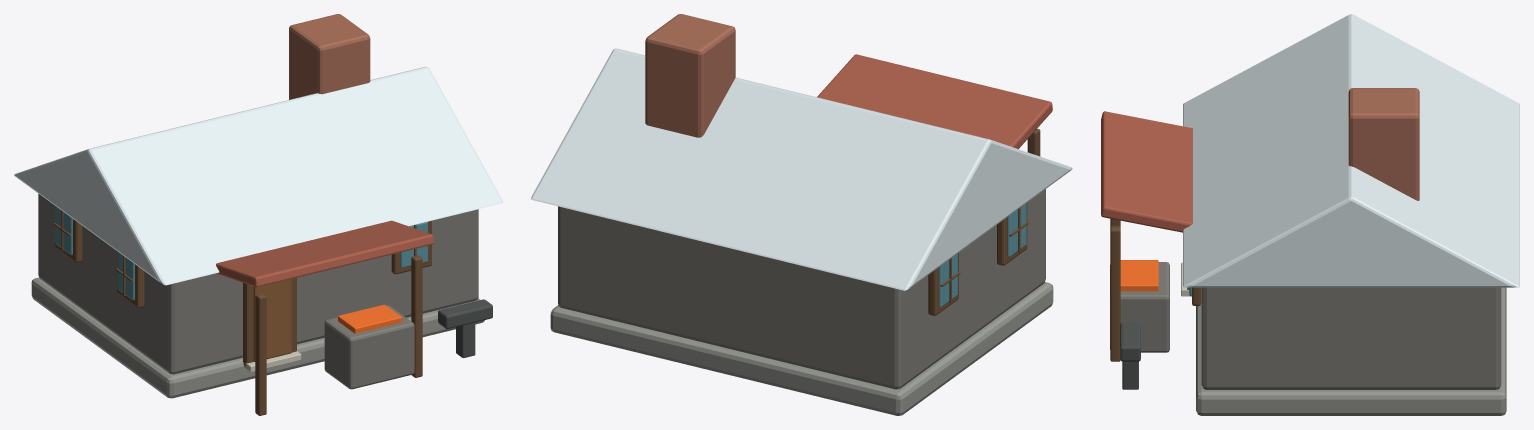
File: snowy-smithy-0.glb
3 views of the same model, side by side, from view 1: azimuth 30°, elevation 25°; view 2: azimuth 150°, elevation 25°; view 3: azimuth 270°, elevation 25° (orthographic). The views are drawn at different scales.
Parts seen in each view (by area): view 1: Snow, Soot stone, Foundation stone, Clay tiles, Dark beams, Chimney brick, Door oak, Forged iron, Blue glass, Forge ember, Cut limestone; view 2: Snow, Soot stone, Foundation stone, Clay tiles, Chimney brick, Dark beams, Blue glass; view 3: Snow, Soot stone, Clay tiles, Foundation stone, Chimney brick, Dark beams, Forged iron, Forge ember.
Part boxes in pixels (x1=…): Snow: x1=14, y1=66, x2=502, y2=285; Soot stone: x1=38, y1=193, x2=478, y2=389; Foundation stone: x1=31, y1=277, x2=484, y2=398; Clay tiles: x1=216, y1=220, x2=433, y2=287; Dark beams: x1=53, y1=206, x2=431, y2=415; Chimney brick: x1=289, y1=14, x2=370, y2=99; Door oak: x1=253, y1=279, x2=291, y2=361; Forged iron: x1=438, y1=299, x2=492, y2=357; Blue glass: x1=55, y1=206, x2=427, y2=300; Forge ember: x1=338, y1=304, x2=402, y2=333; Cut limestone: x1=242, y1=351, x2=301, y2=372; Snow: x1=531, y1=48, x2=1072, y2=290; Soot stone: x1=558, y1=189, x2=1045, y2=389; Foundation stone: x1=550, y1=282, x2=1053, y2=415; Clay tiles: x1=817, y1=54, x2=1052, y2=148; Chimney brick: x1=645, y1=14, x2=735, y2=137; Dark beams: x1=928, y1=128, x2=1040, y2=315; Blue glass: x1=939, y1=203, x2=1026, y2=307; Snow: x1=1183, y1=14, x2=1519, y2=287; Soot stone: x1=1110, y1=262, x2=1501, y2=389; Clay tiles: x1=1101, y1=111, x2=1192, y2=232; Foundation stone: x1=1196, y1=287, x2=1506, y2=415; Chimney brick: x1=1348, y1=88, x2=1419, y2=200; Dark beams: x1=1110, y1=218, x2=1201, y2=361; Forged iron: x1=1120, y1=322, x2=1140, y2=389; Forge ember: x1=1120, y1=260, x2=1158, y2=291.
Bounding box in the file's own units: 4.69 × 3.28 × 4.48.
